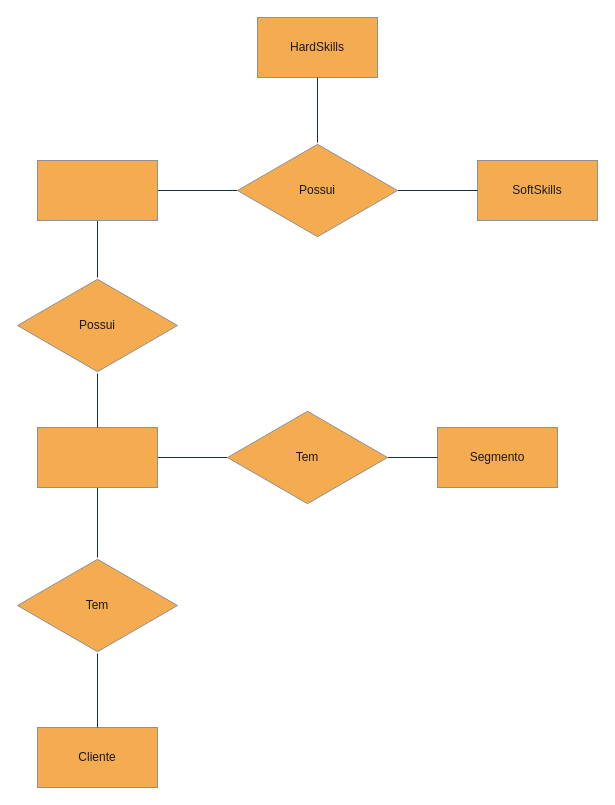
Image size: 615x805. Some labels were removed from this diagram. The shapes that lost their labels are listed below. From the top down, each one's centre as x and y in pixels, then its label:
At [97,190]: "Usuarios".
At [97,457]: "Demanda".
